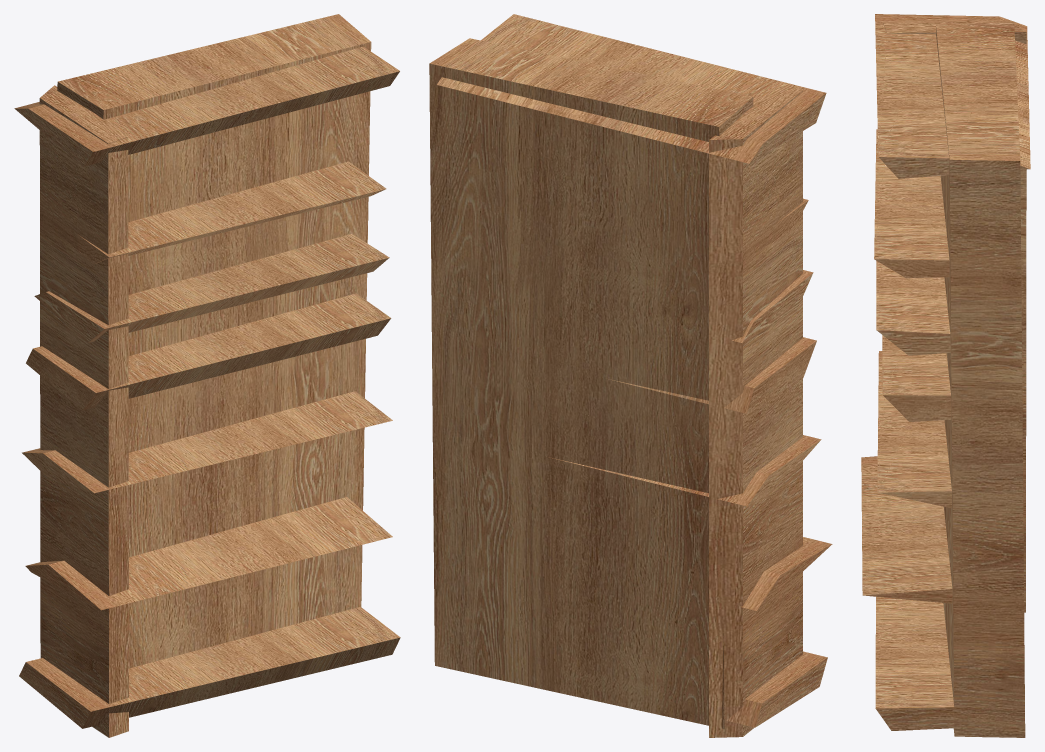
File: 47154_ours.glb
3 renders of one model, left to right at view 1: azimuth 30°, elevation 25°; view 2: azimuth 150°, elevation 25°; view 3: azimuth 270°, elevation 25°, orthographic. The views are drawn at different scales.
Parts seen in each view (by area): view 1: ParentEmpty; view 2: ParentEmpty; view 3: ParentEmpty.
Part boxes in pixels (x1=…): ParentEmpty: x1=14, y1=14, x2=400, y2=737; ParentEmpty: x1=429, y1=14, x2=832, y2=737; ParentEmpty: x1=861, y1=14, x2=1030, y2=737.
Size of the model in its own units: 0.5585 by 1 by 0.2602.
1 material, 1 textured.
